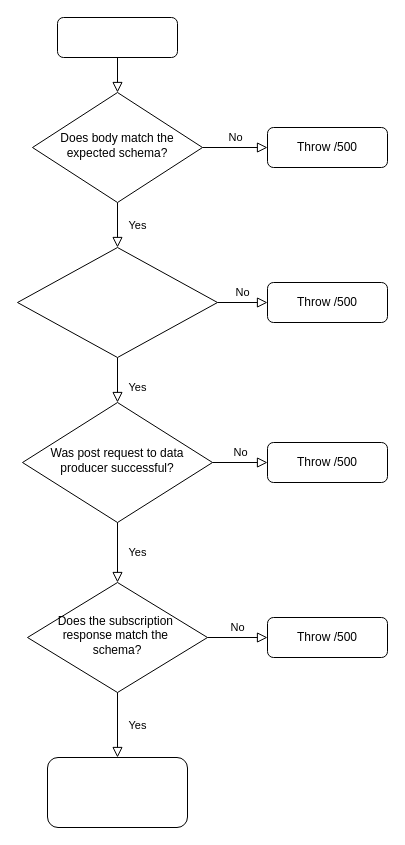
The diagram is 405 pixels wide and 845 high, and some of its shapes have lost their labels. The centre of each missing label's shape, as x and y in pixels:
"Incoming AVL subscription request" goes at point 117,37.
"Update dynamo. Return 201 status code. End function" goes at point 117,792.
"Was producer's username / password added to ssm successfully?" goes at point 117,302.
